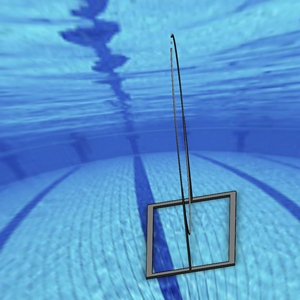circle: (143, 29, 240, 280)
